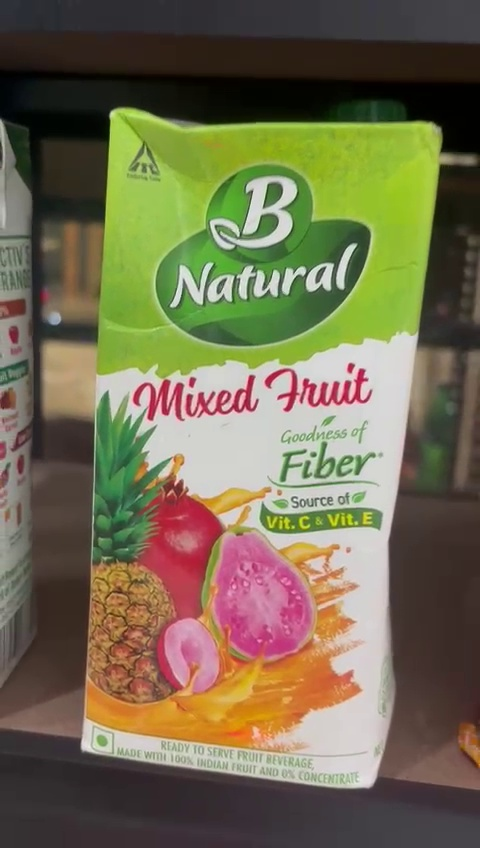Mixed Fruit: (93, 100, 409, 787)
